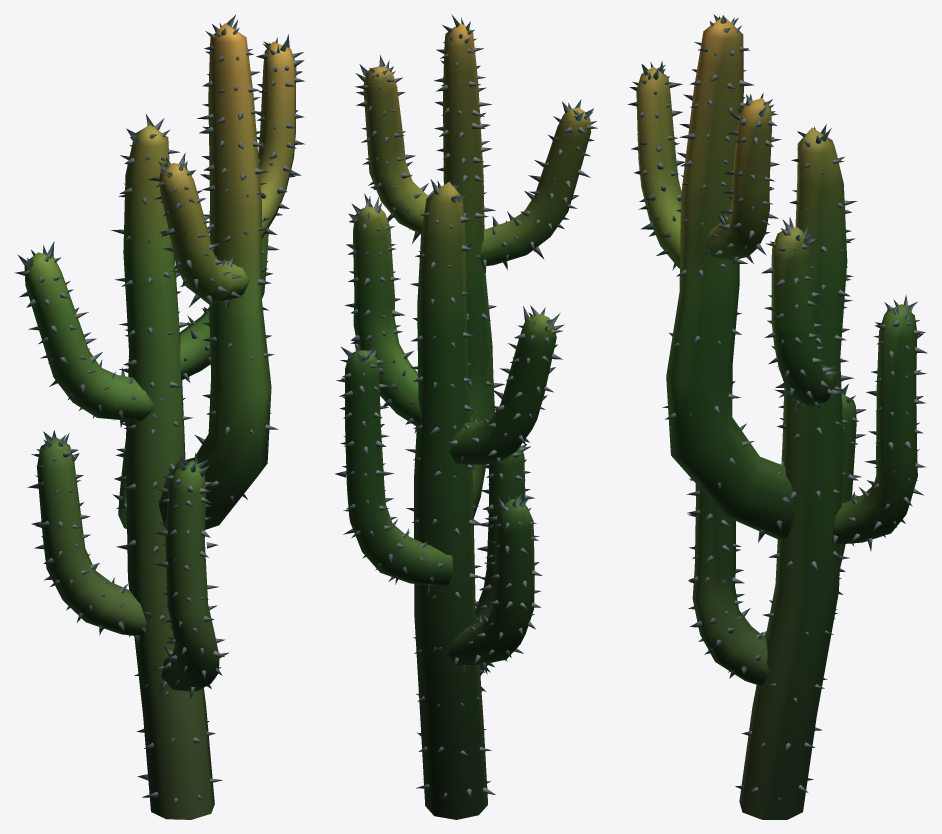
The model's file is GEO_cacto.fbx.
3 renders of one model, left to right at view 1: azimuth 30°, elevation 25°; view 2: azimuth 150°, elevation 25°; view 3: azimuth 270°, elevation 25°, orthographic. The views are drawn at different scales.
Parts seen in each view (by area): view 1: GEO_cacto1; view 2: GEO_cacto1; view 3: GEO_cacto1.
Part boxes in pixels (<box>): GEO_cacto1: <box>14,15,304,819</box>; GEO_cacto1: <box>335,14,597,819</box>; GEO_cacto1: <box>627,14,927,819</box>.
Size of the model in its own units: 174 by 534 by 180.
